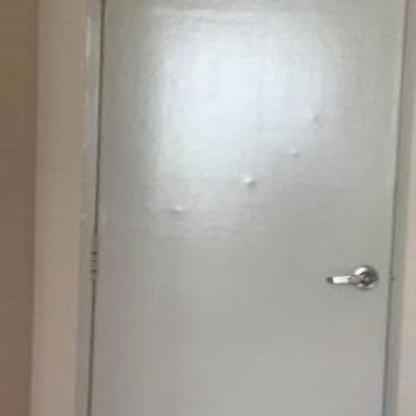door: (74, 0, 402, 416)
